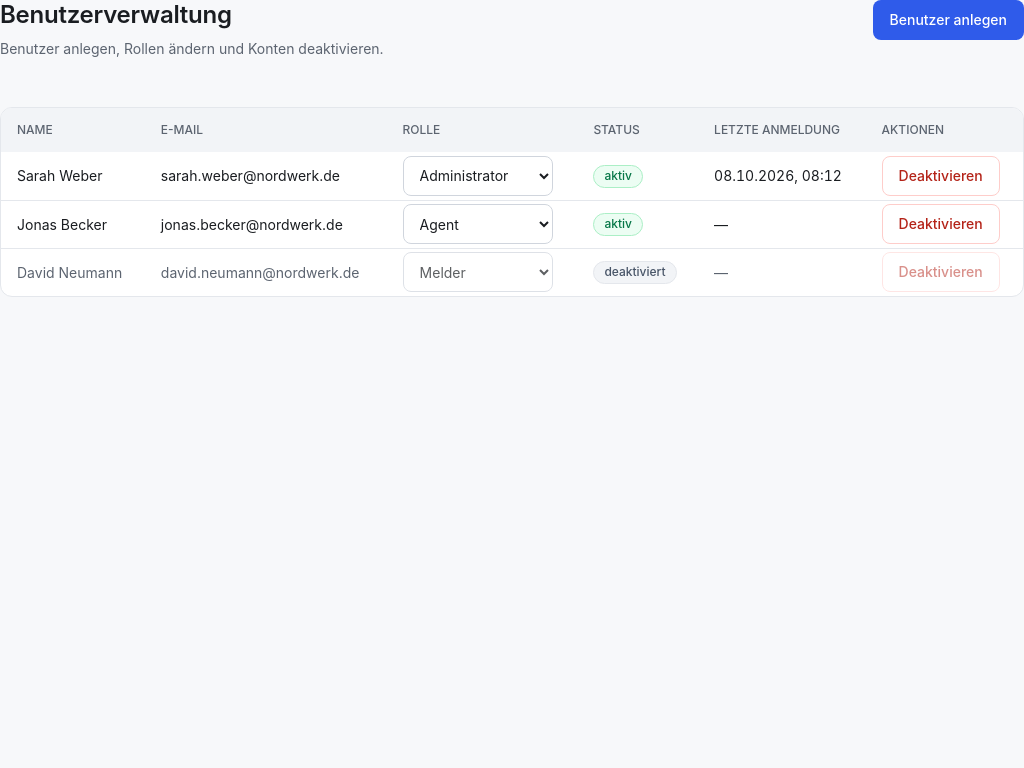
Test: UsersPage › creates a user through the form
Check: the text "Sarah Weber" is shown, box [1,152,145,200]
Click the button with test id "new-user-btn": (948, 20) [873,0,1023,40]
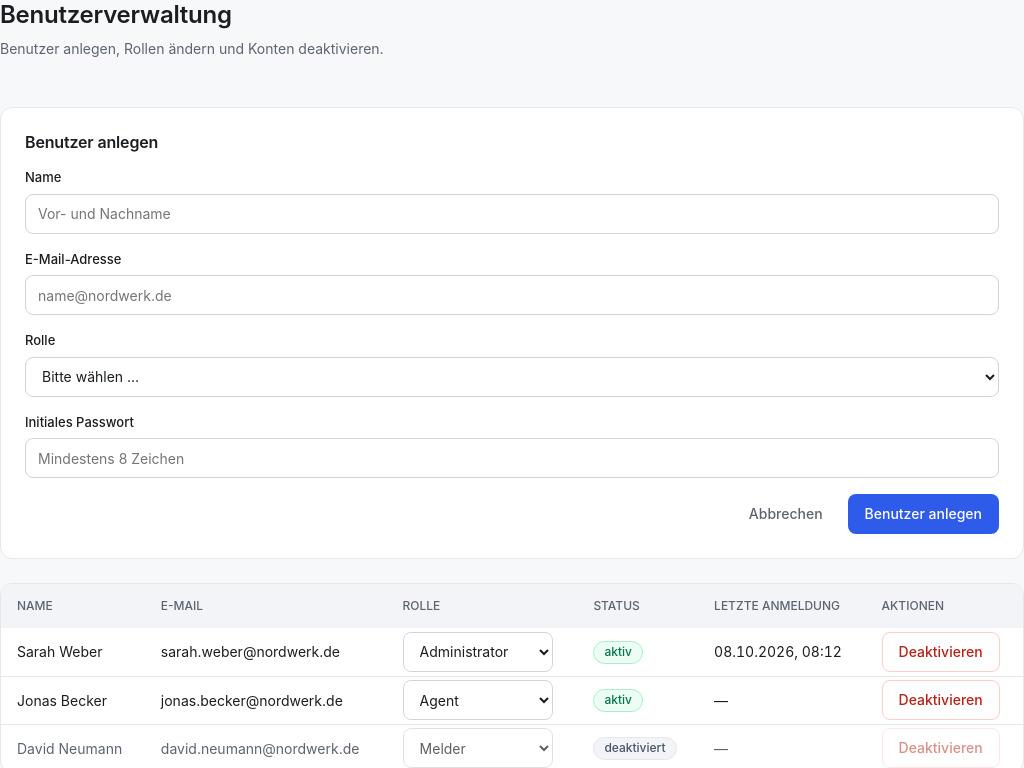
In the field labelled "Name": (512, 214) [25,194,999,234], type "Neue Person"
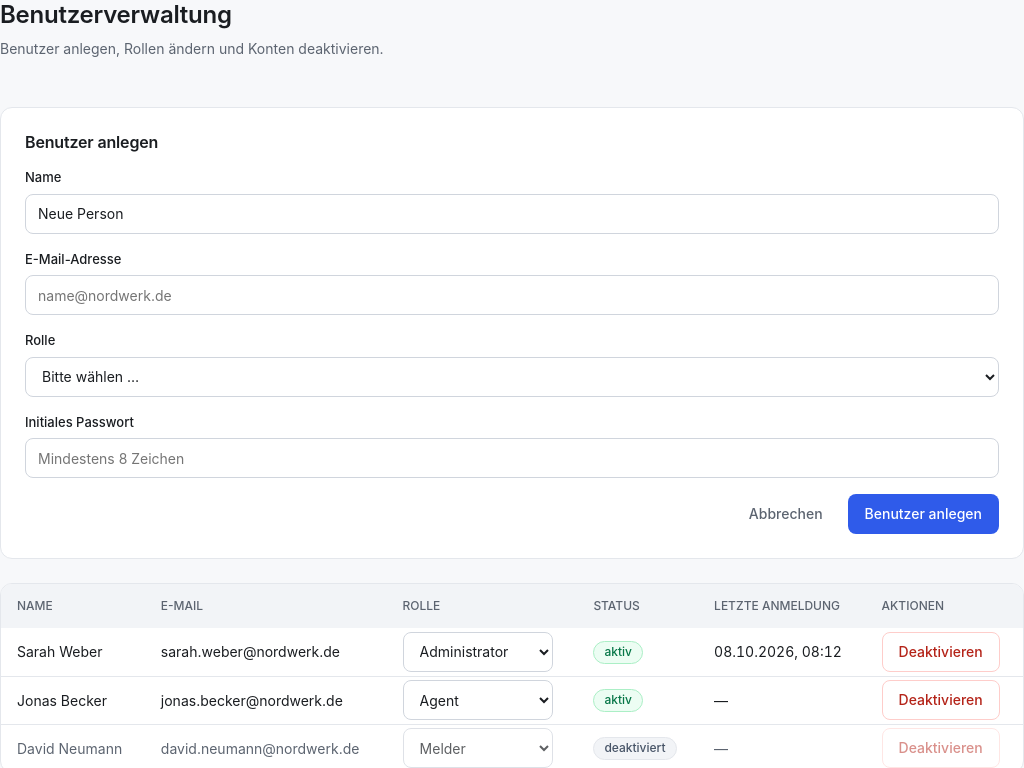
In the field labelled "E-Mail-Adresse": (512, 295) [25,275,999,315], type "neu@nordwerk.de"
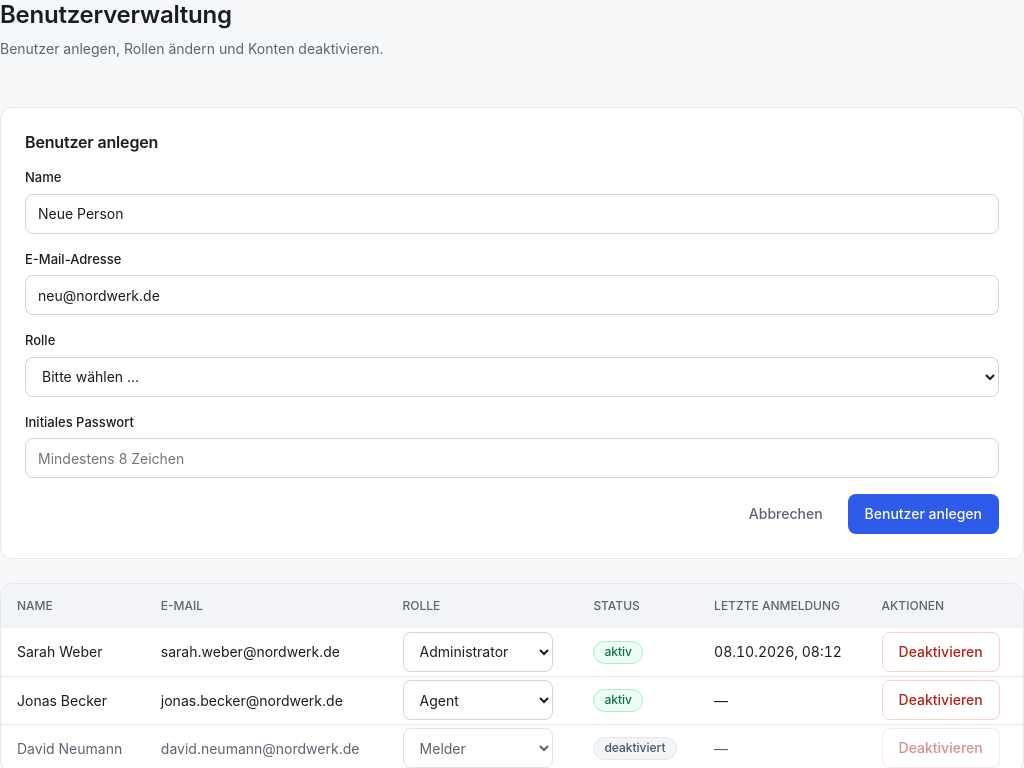
Select "Melder" in the dropdown labelled "Rolle": (512, 376) [25,356,999,396]
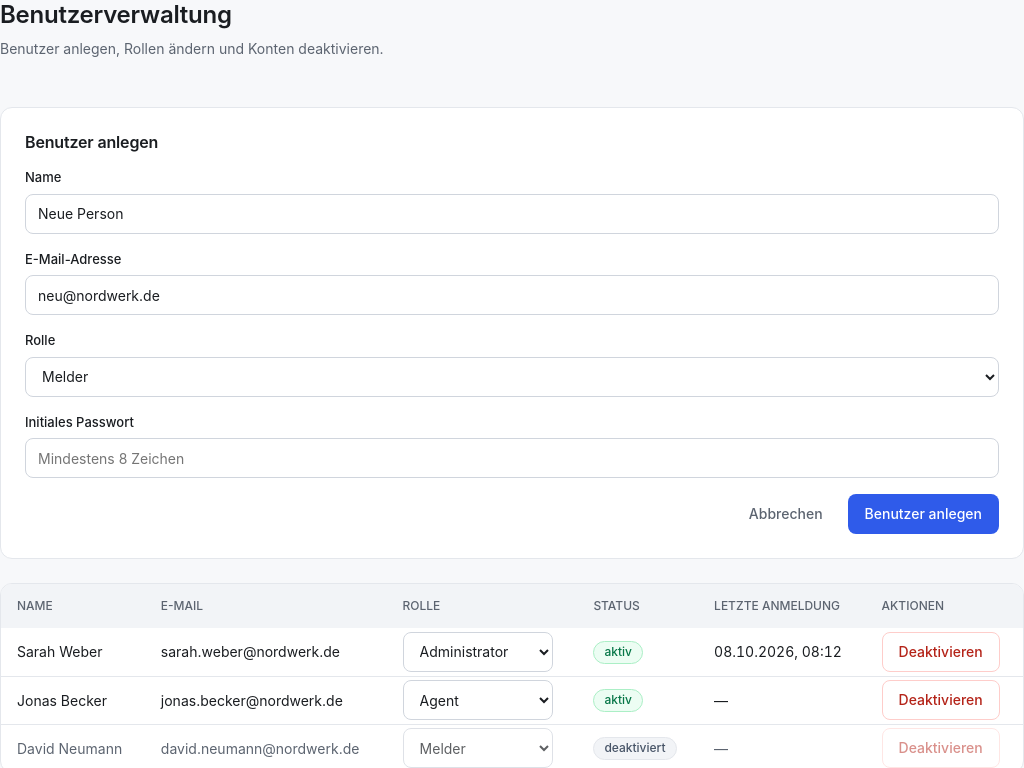
In the password field labelled "Initiales Passwort": (512, 458) [25,438,999,478], type "geheim123"
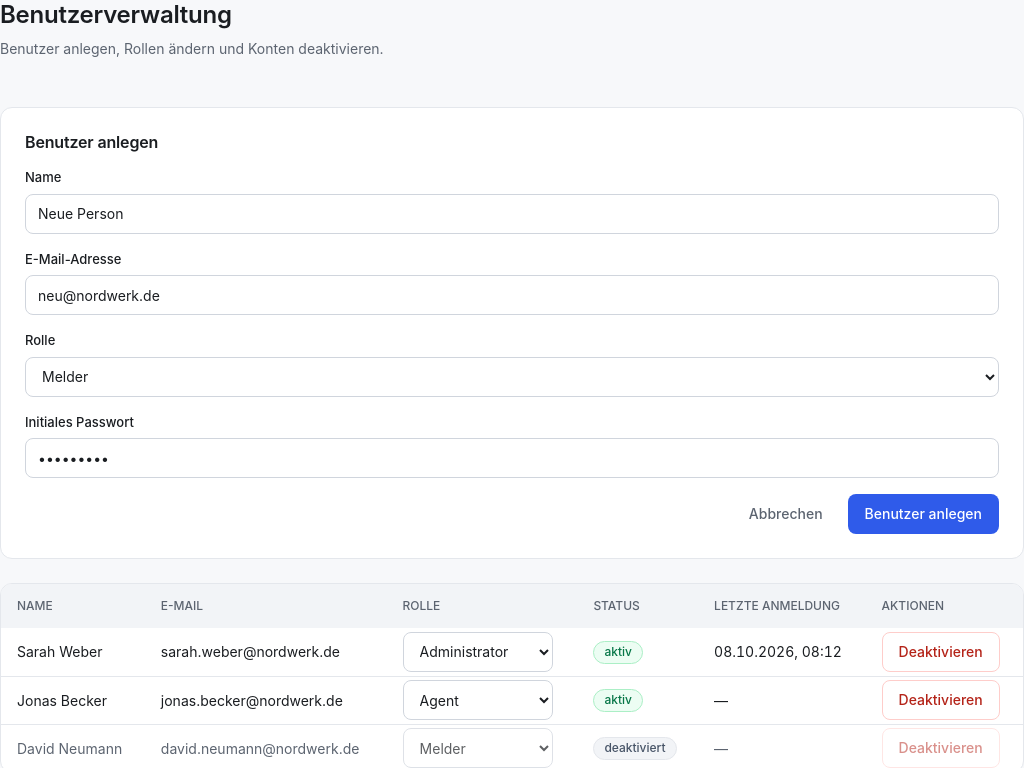
Click the button "Benutzer anlegen": (923, 514) [848,494,999,534]
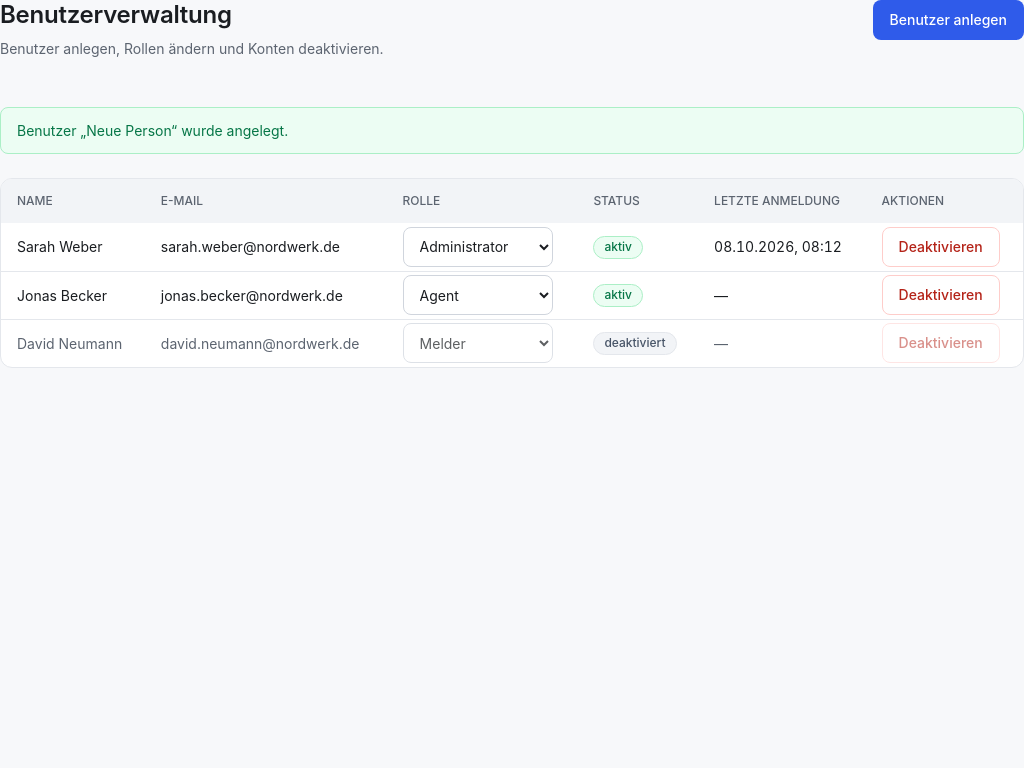
Check: the text "Benutzer „Neue Person“ wurde angelegt." is shown, box [0,107,1023,154]
